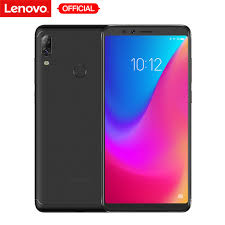lenovo: (97, 24, 193, 214)
